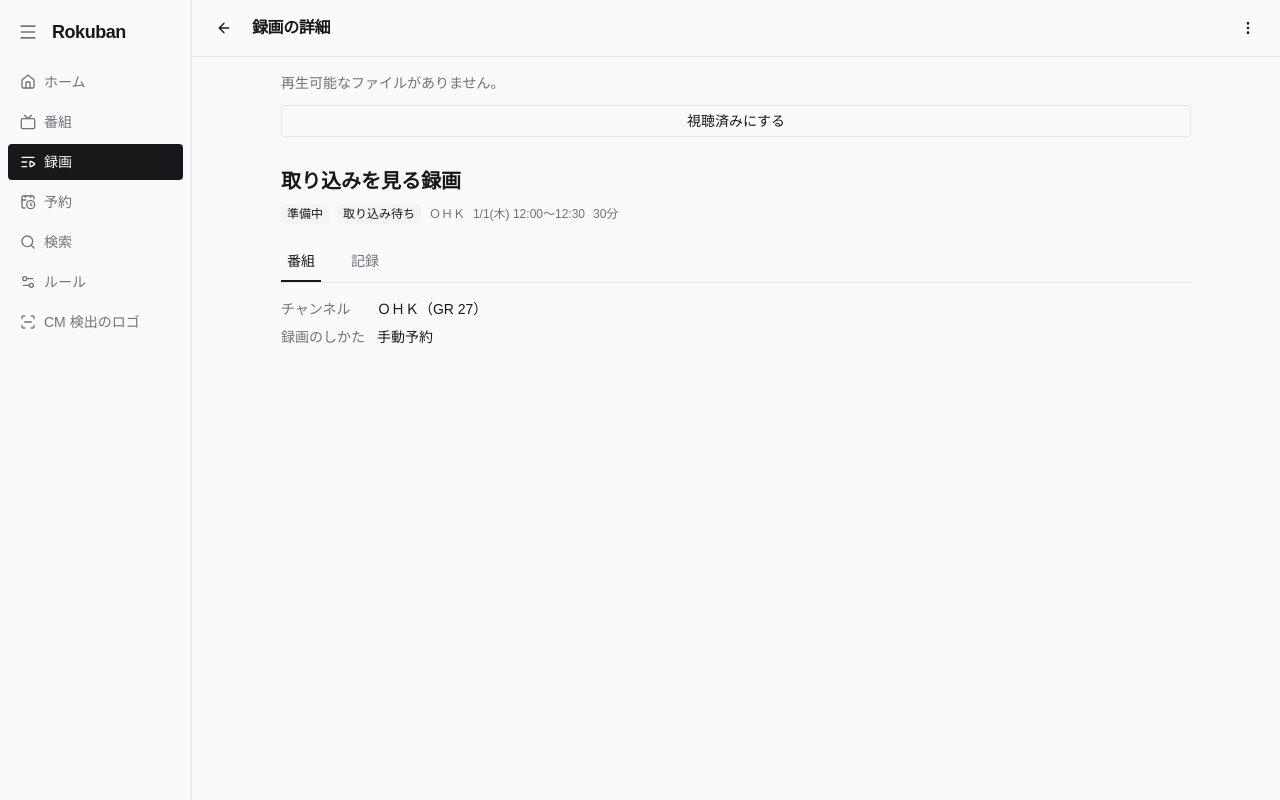
Test: 取り込み進捗の表示 › 取り込み待ちは「削除済み」ではなく待機中として出る
Expected: the heading "取り込みを見る録画" is shown, [281, 170, 461, 192]
Click the button with aria-label "取り込み状態を記録タブで見る" at (379, 214), box [337, 202, 421, 226]
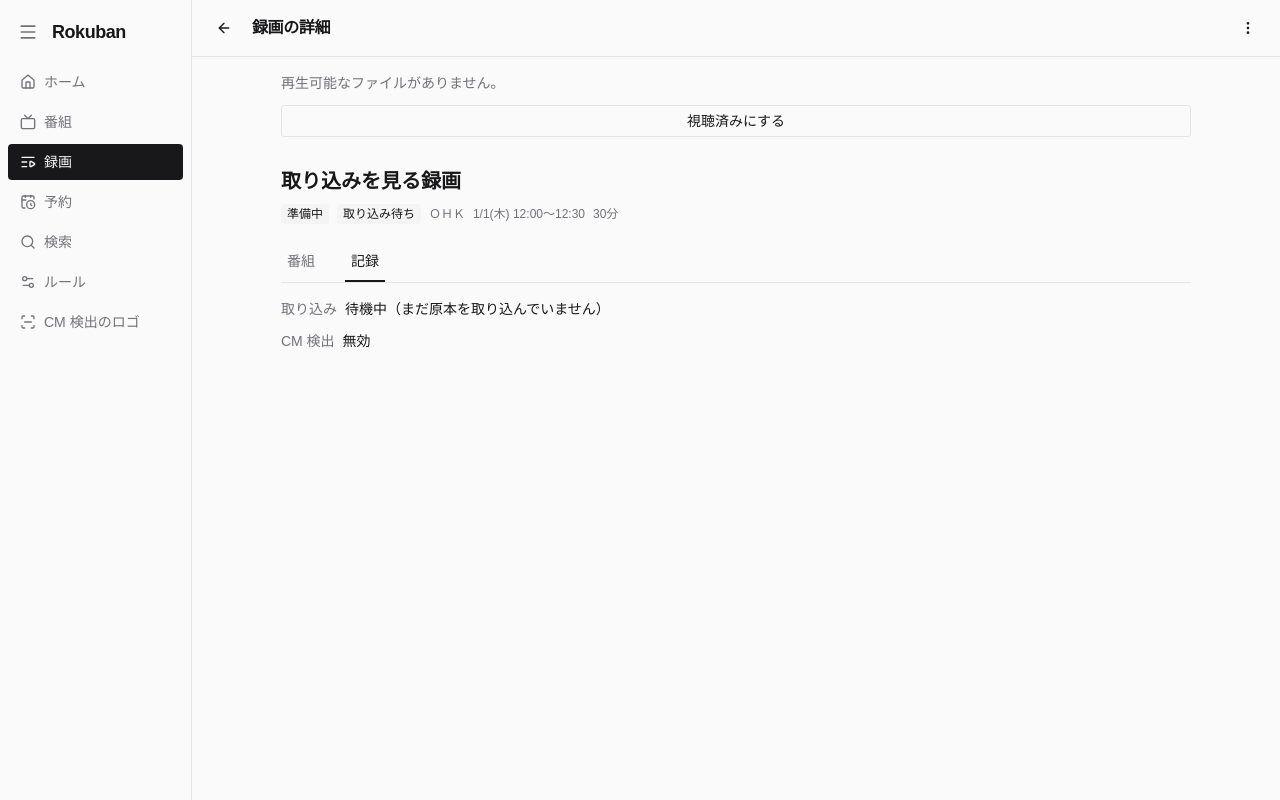
Expected: the text "待機中（まだ原本を取り込んでいません）" is shown, [345, 299, 610, 319]
